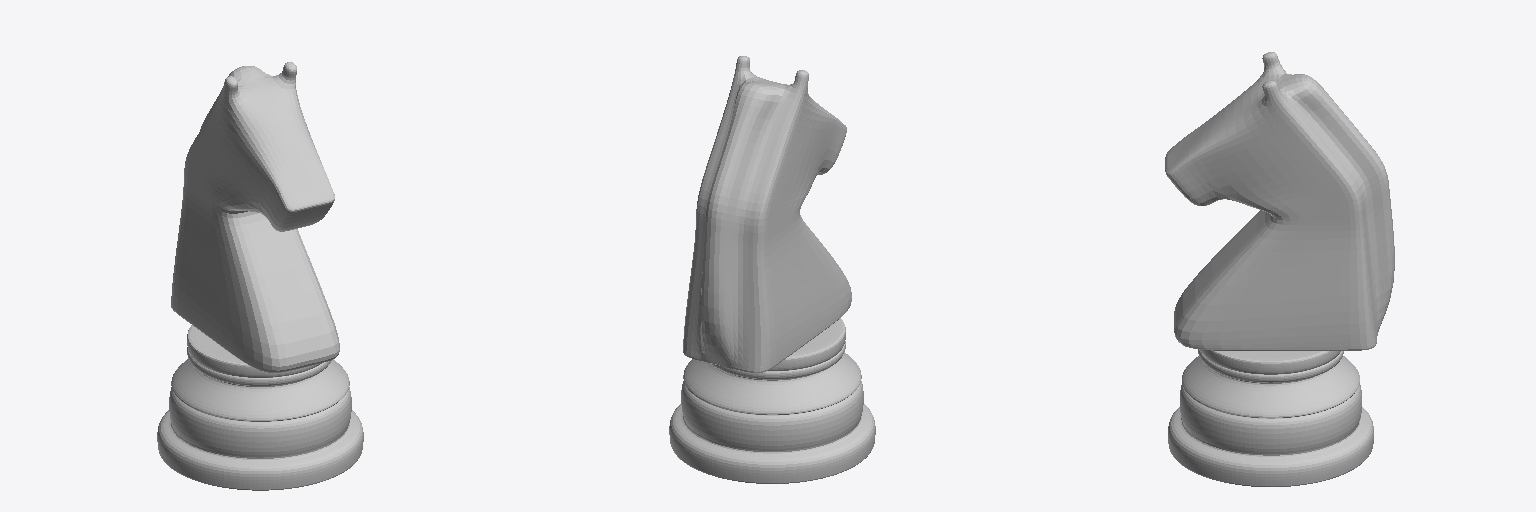
The model's file is horseFigure.obj.
The picture shows the model from 3 angles: view 1: azimuth 30°, elevation 25°; view 2: azimuth 150°, elevation 25°; view 3: azimuth 270°, elevation 25°; orthographic projection.
Visible parts, largest first — view 1: Cylinder.027_Cylinder.008; view 2: Cylinder.027_Cylinder.008; view 3: Cylinder.027_Cylinder.008.
Boxes of the visible parts, box(x1,y1,x2,y2) form: Cylinder.027_Cylinder.008: box(157, 62, 363, 490); Cylinder.027_Cylinder.008: box(669, 56, 875, 483); Cylinder.027_Cylinder.008: box(1165, 52, 1394, 486).
Size of the model in its own units: 0.3936 by 0.7958 by 0.438.